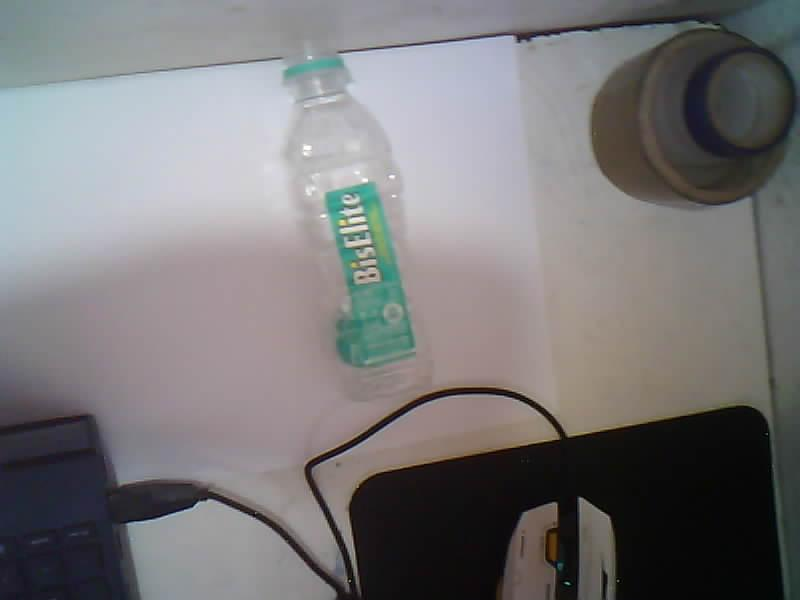non-biodegradable: (282, 43, 430, 399)
